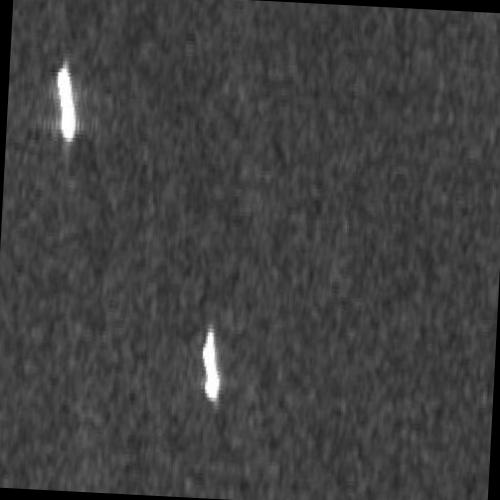ship: (56, 64, 76, 143), (202, 325, 220, 403)
